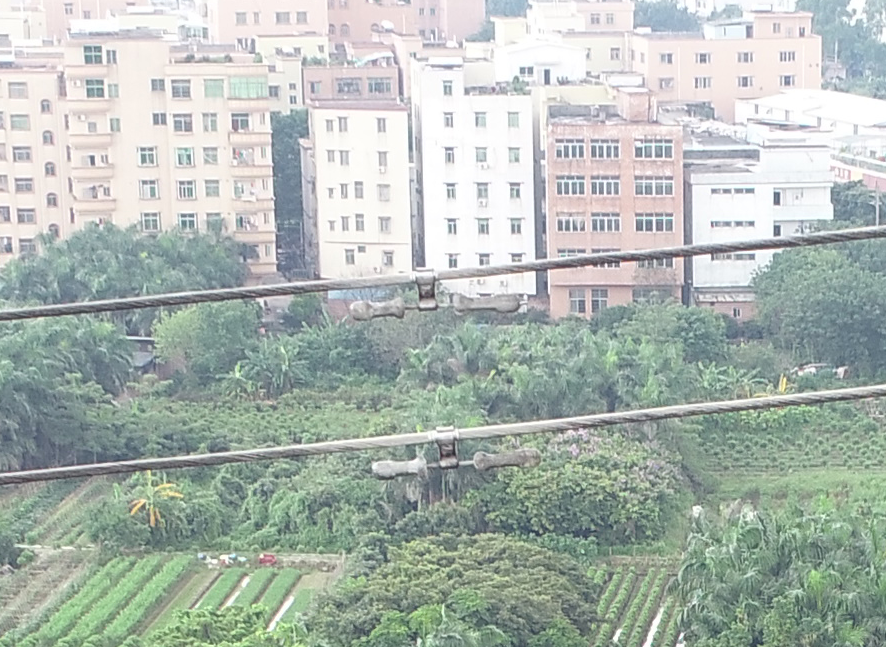damper: (369, 419, 543, 481), (347, 262, 522, 323)
